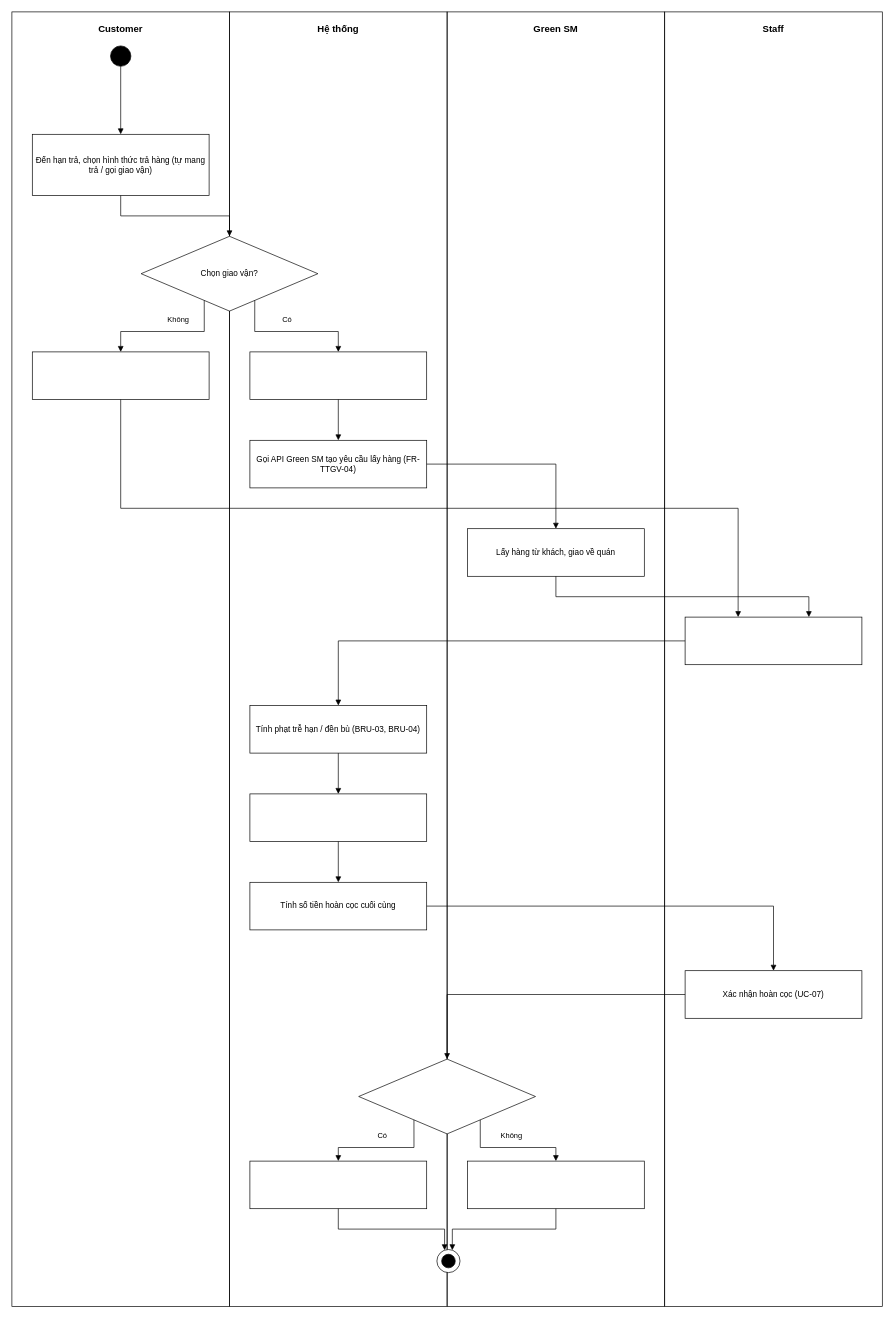
The diagram is 894 pixels wide and 1319 high, and some of its shapes have lost their labels. Each missing label, with the centre of its shape:
"Còn thiếu tiền?" belongs at (447,1096).
"Hoàn tiền còn lại cho khách" belongs at (555,1184).
"Kiểm đếm linh kiện theo checklist điện tử (UC-08)" belongs at (773,640).
"Mang trả sản phẩm tại quầy" belongs at (120,375).
"Sinh mã QR thu thêm (UC-10)" belongs at (338,1184).
"Trừ phí ship thực tế hai chiều (FR-TTGV-08)" belongs at (338,817).
"Tính phí ship chiều trả (BRU-05)" belongs at (338,375).
